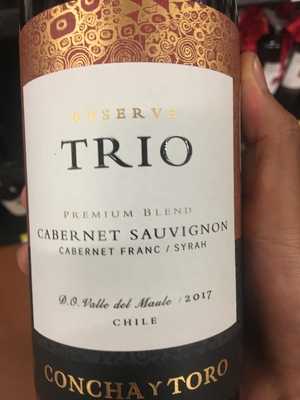trio cabernet sauvignon: (16, 9, 249, 400)
